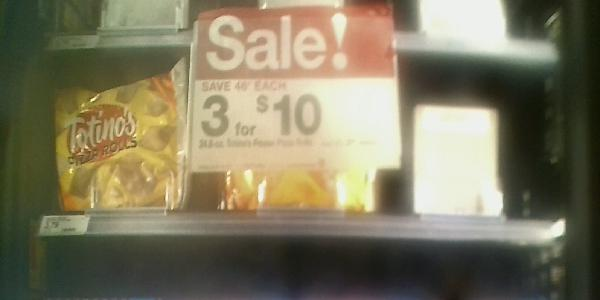icecream: (195, 71, 394, 228), (38, 72, 185, 223)
